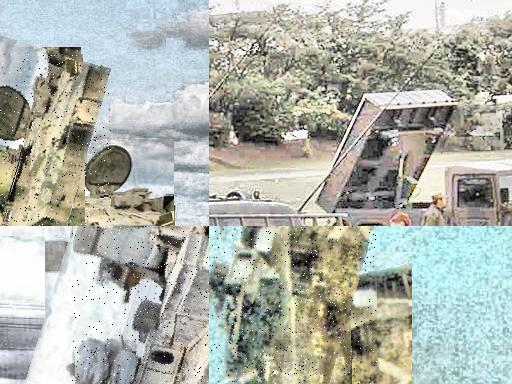tanks: (210, 227, 374, 384), (73, 227, 210, 384), (1, 56, 111, 227)
